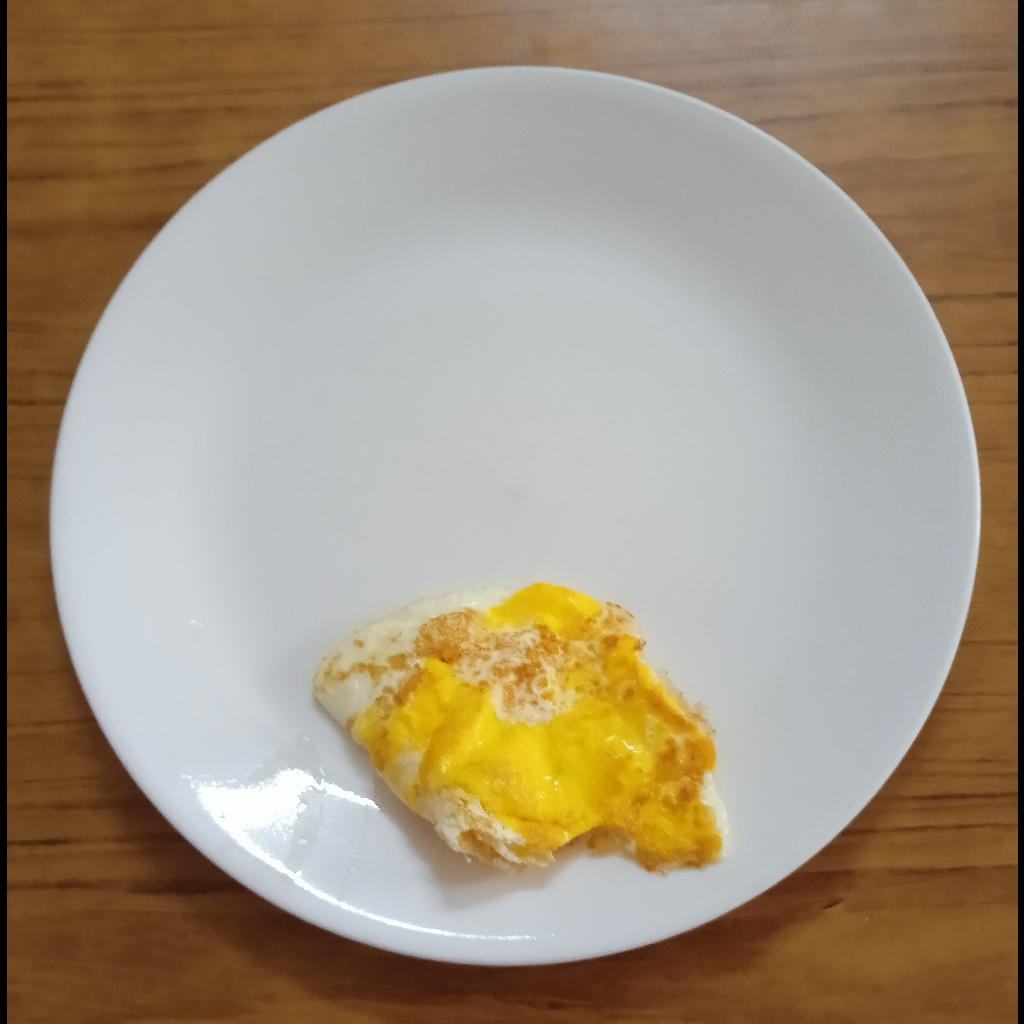egg-poached: (311, 582, 736, 874)
